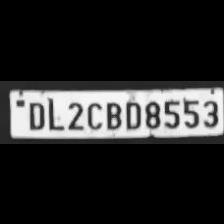2: (64, 98, 84, 130)
3: (200, 96, 220, 128)
5: (180, 94, 200, 128), (161, 96, 179, 128)
8: (142, 97, 160, 129)
B: (103, 97, 121, 128)
C: (84, 98, 103, 130)
D: (23, 98, 44, 130), (122, 97, 142, 128)
L: (45, 96, 63, 130)
